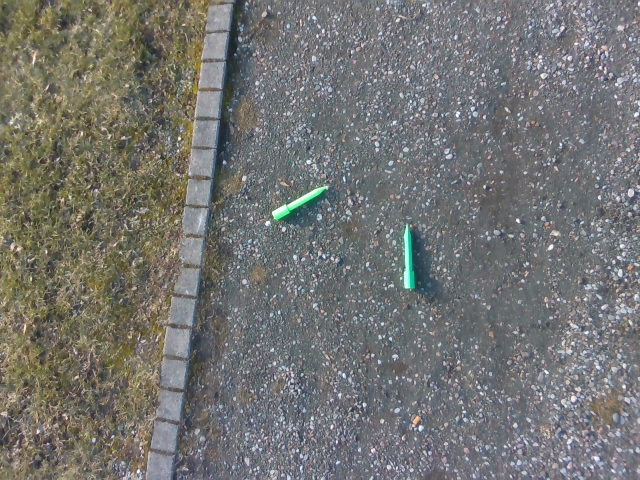Probe: (267, 180, 334, 223), (398, 217, 421, 293)
